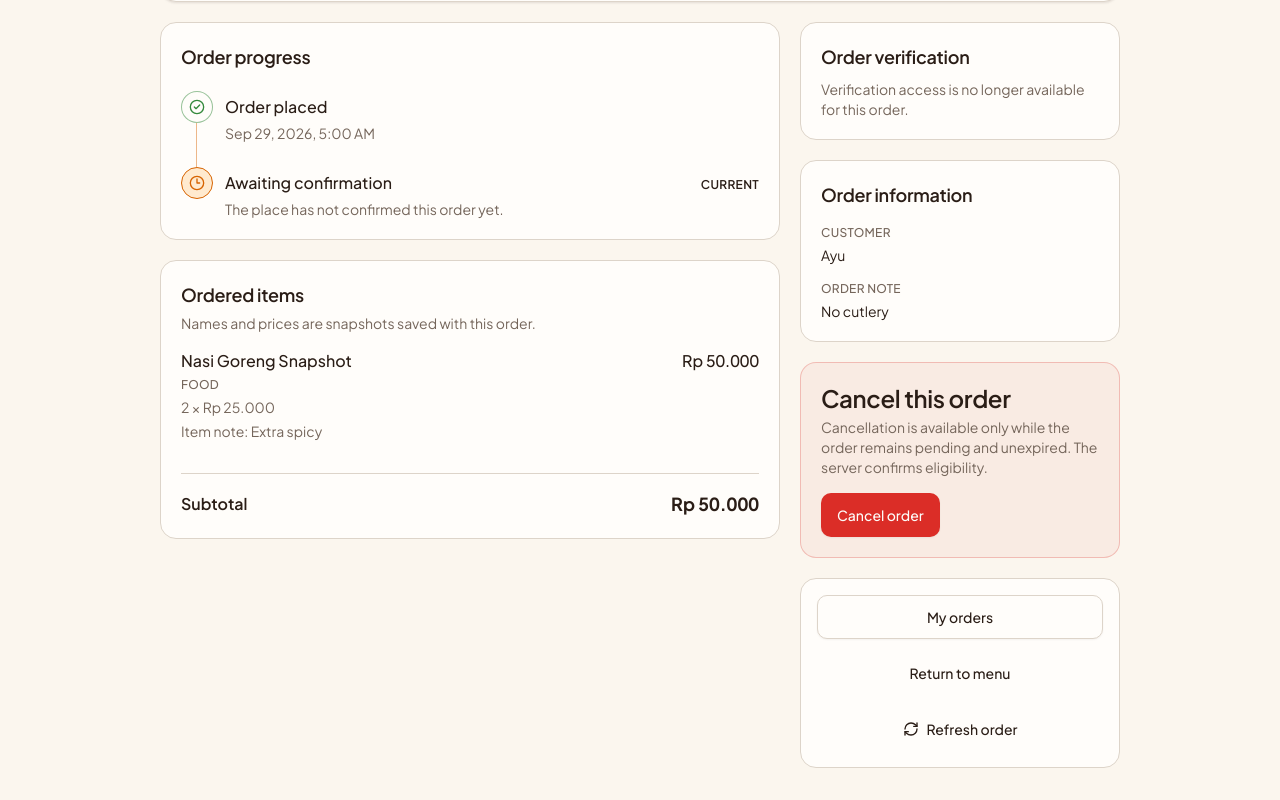
Test: customer order detail page › replaces an expired cancellation conflict with the authoritative expired order
This screenshot has width=1280, height=800.
(page scrolled)
Click the button "Cancel order" at coordinates (880, 515), box [821,493,940,537]
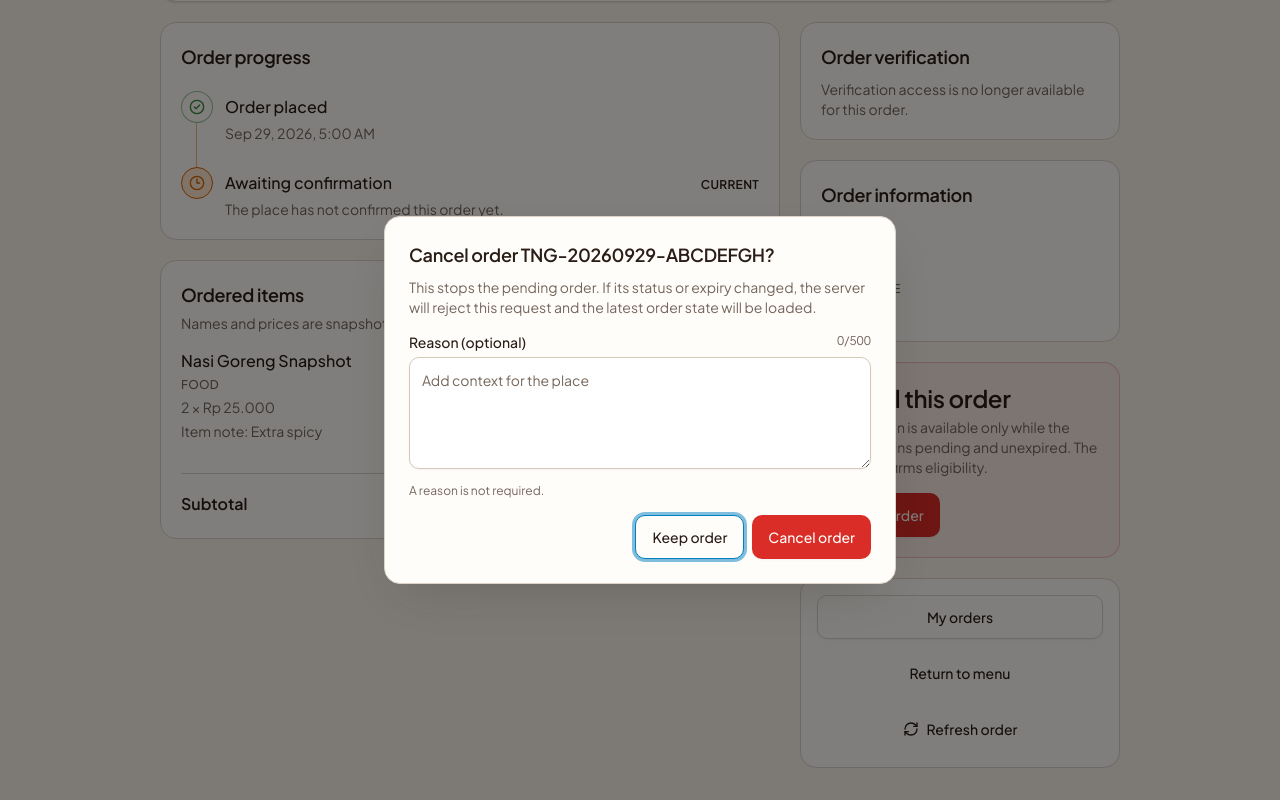
Click the button "Cancel order" at coordinates (812, 537), box [752,515,871,559]
(page scrolled)
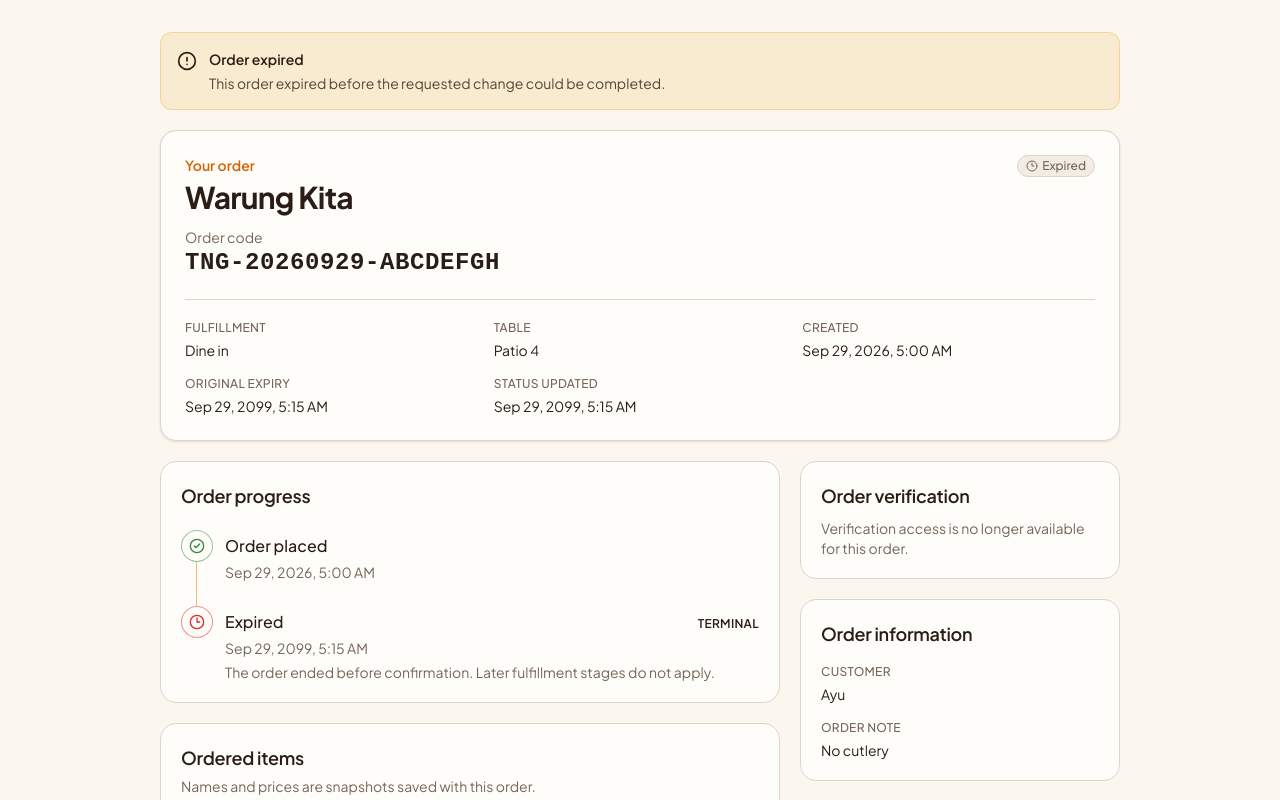
Expected: the element named "Order status: Expired" is shown, [1017,155,1095,177]
Expected: the button "Cancel order" is gone
